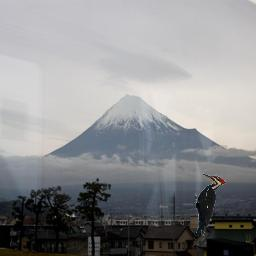Woodpecker: (195, 173, 228, 236)
